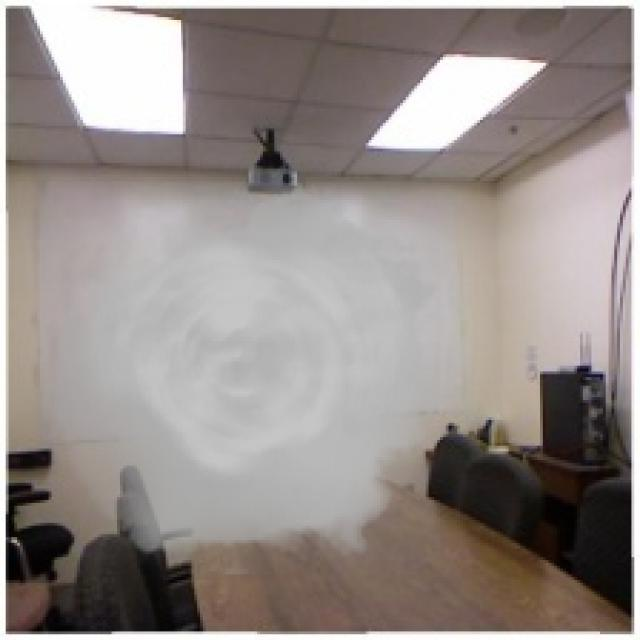smoke: (48, 175, 443, 574)
